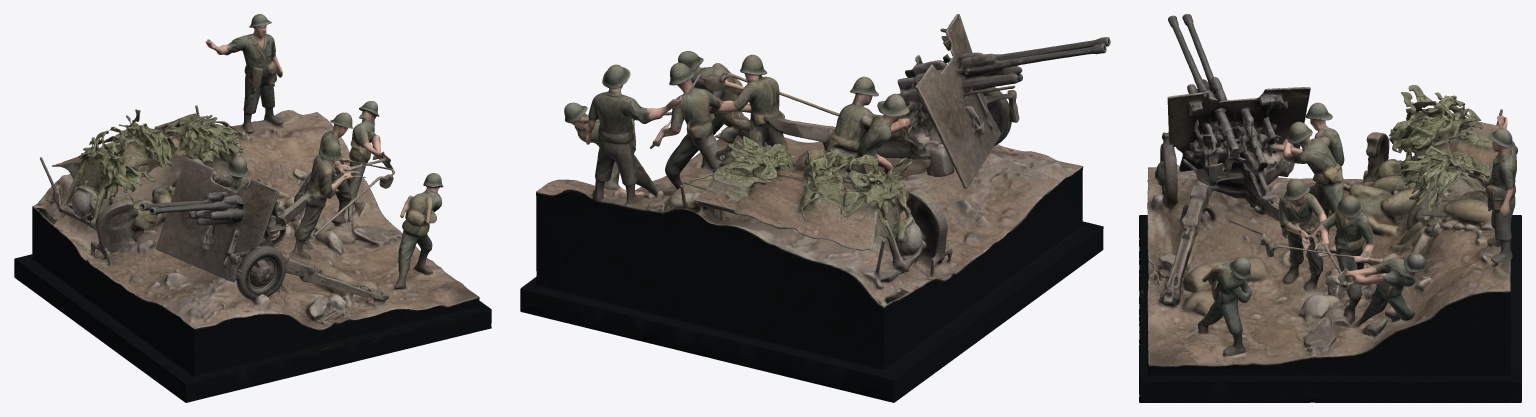
Rendered from Kéo pháo ta chủ trương của ta.glb.
The picture shows the model from 3 angles, left to right: view 1: azimuth 30°, elevation 25°; view 2: azimuth 150°, elevation 25°; view 3: azimuth 270°, elevation 25°; orthographic projection. The views are drawn at different scales.
Size of the model in its own units: 1.55 by 0.9231 by 1.36.
Materials: 1 (1 with a texture image).
